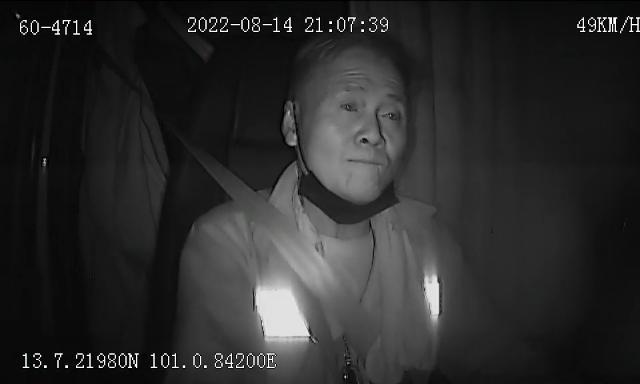SafeDriving: (375, 96, 407, 128), (334, 90, 366, 122)
Seatbelt: (165, 125, 381, 371)
